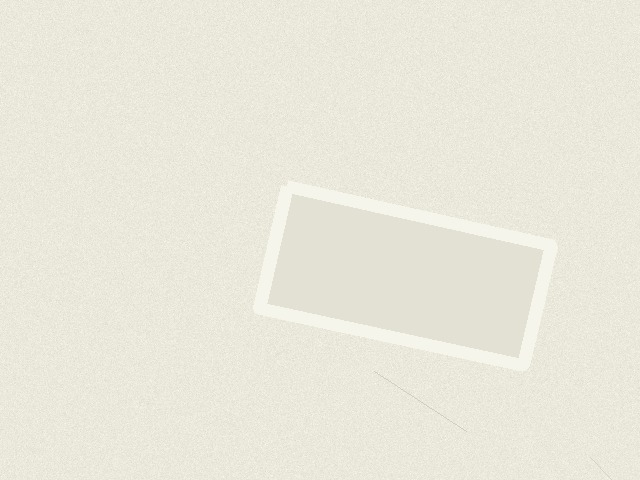parking_area: (259, 186, 551, 365)
